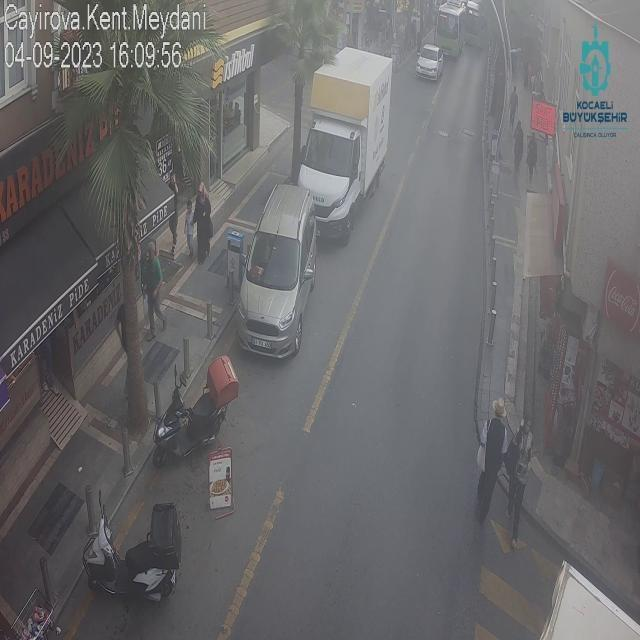Car: (238, 173, 315, 359), (411, 36, 452, 90)
Cycle: (57, 501, 216, 602), (151, 354, 251, 450)
Truck: (283, 35, 404, 232)
